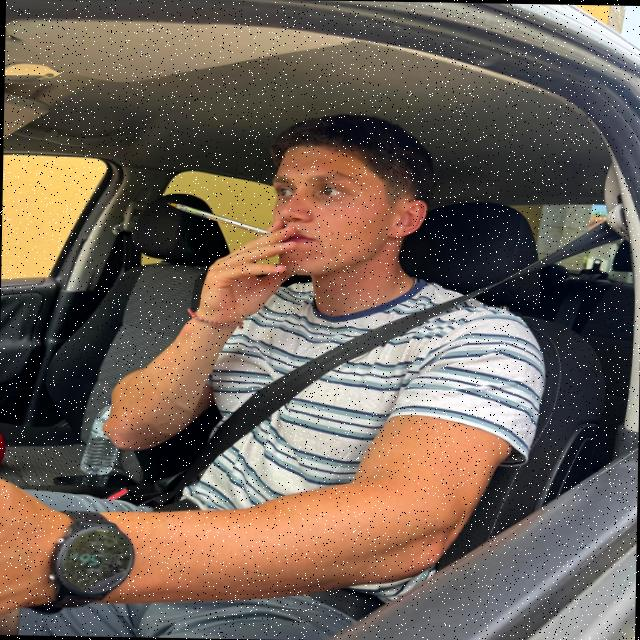Cigarette: (163, 199, 280, 240)
